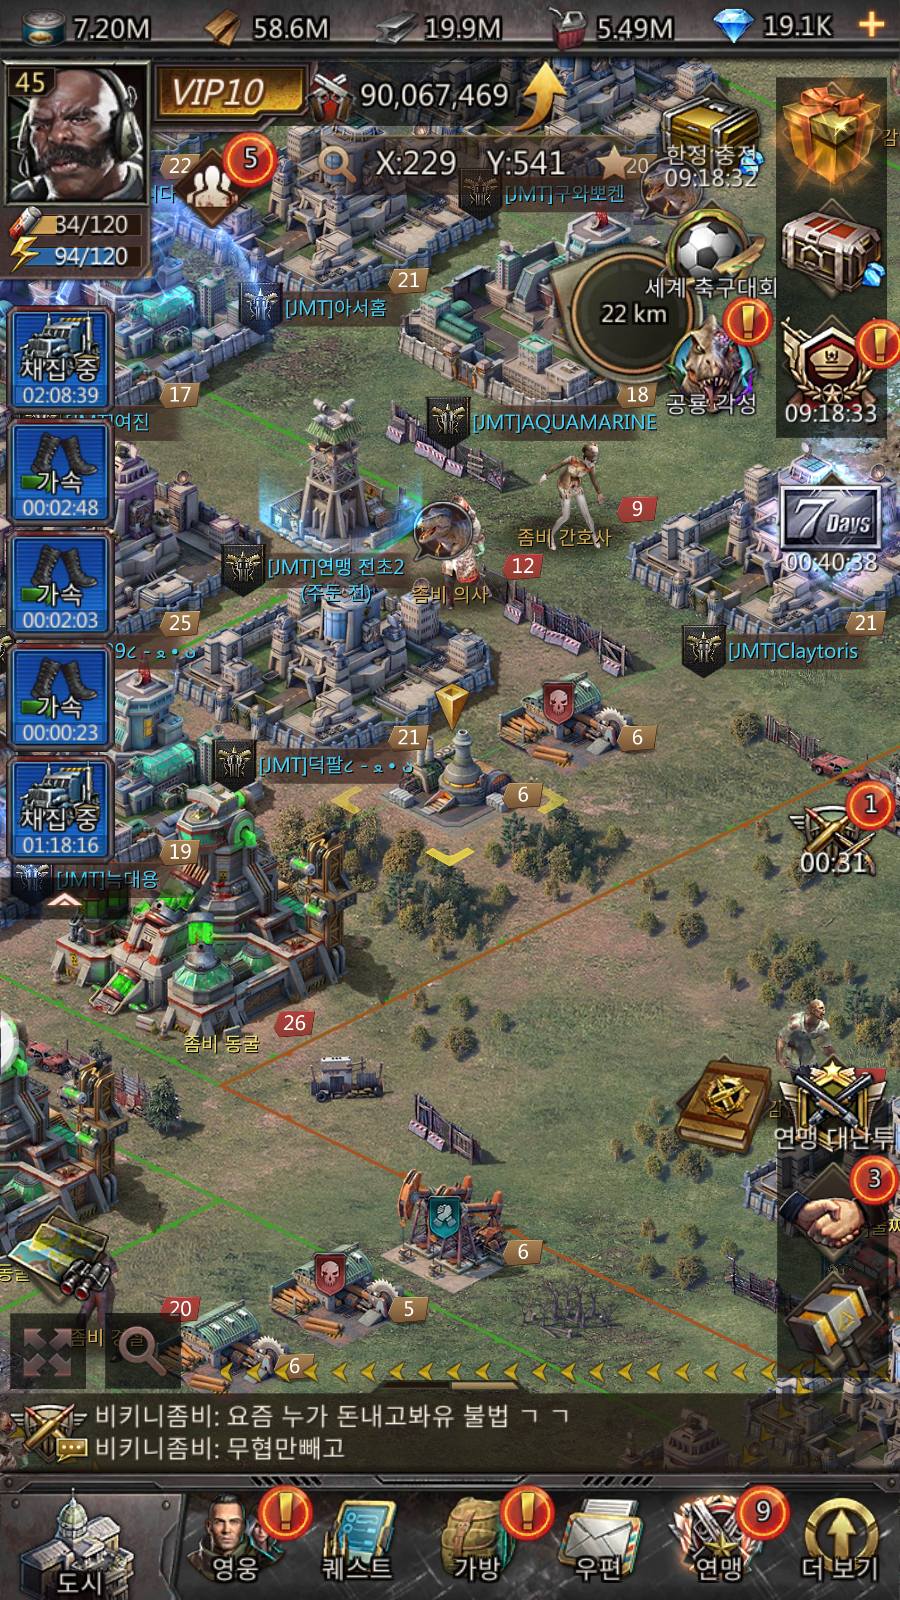city: (8, 1495, 176, 1600)
empty_steel: (313, 684, 595, 885)
open_panel: (91, 1298, 205, 1400)
troops_cnt_5: (152, 120, 290, 244)
